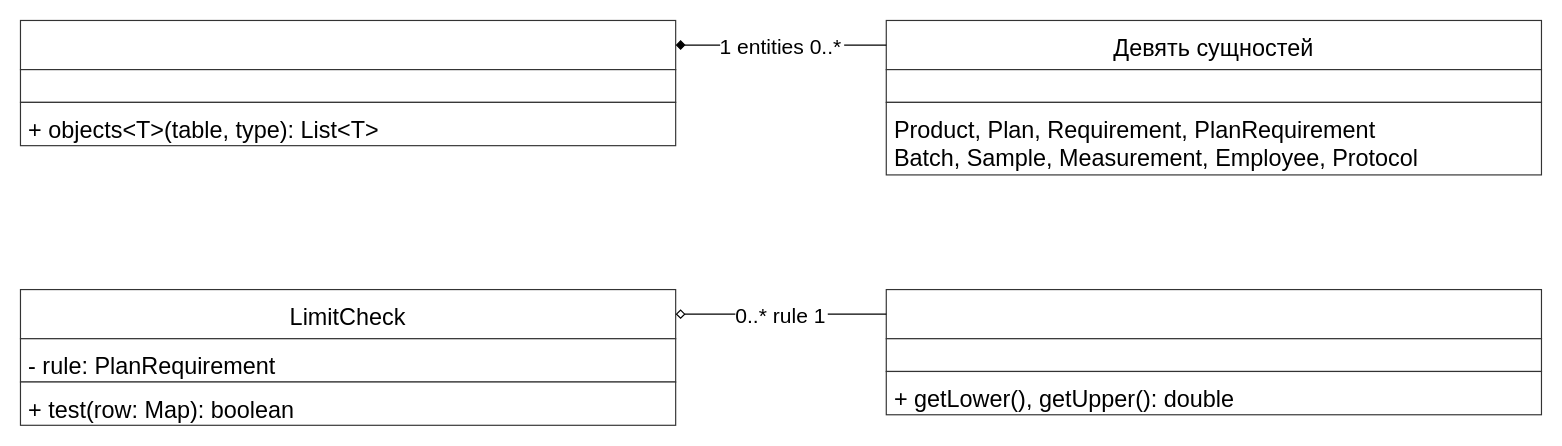
This 1562x446 diagram has some shape labels left out. The centre of each missing label's shape, as x and y in pixels:
"Dataset" belongs at (347,44).
"PlanRequirement" belongs at (1213,313).
